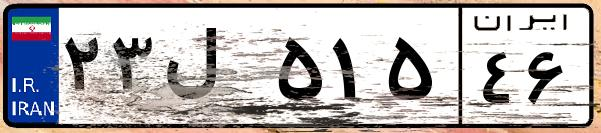1: (330, 28, 385, 110)
2: (57, 26, 110, 100)
3: (110, 28, 158, 98)
4: (475, 38, 525, 113)
5: (270, 28, 330, 110), (385, 28, 445, 110)
6: (525, 38, 570, 115)
ل: (158, 20, 270, 120)
